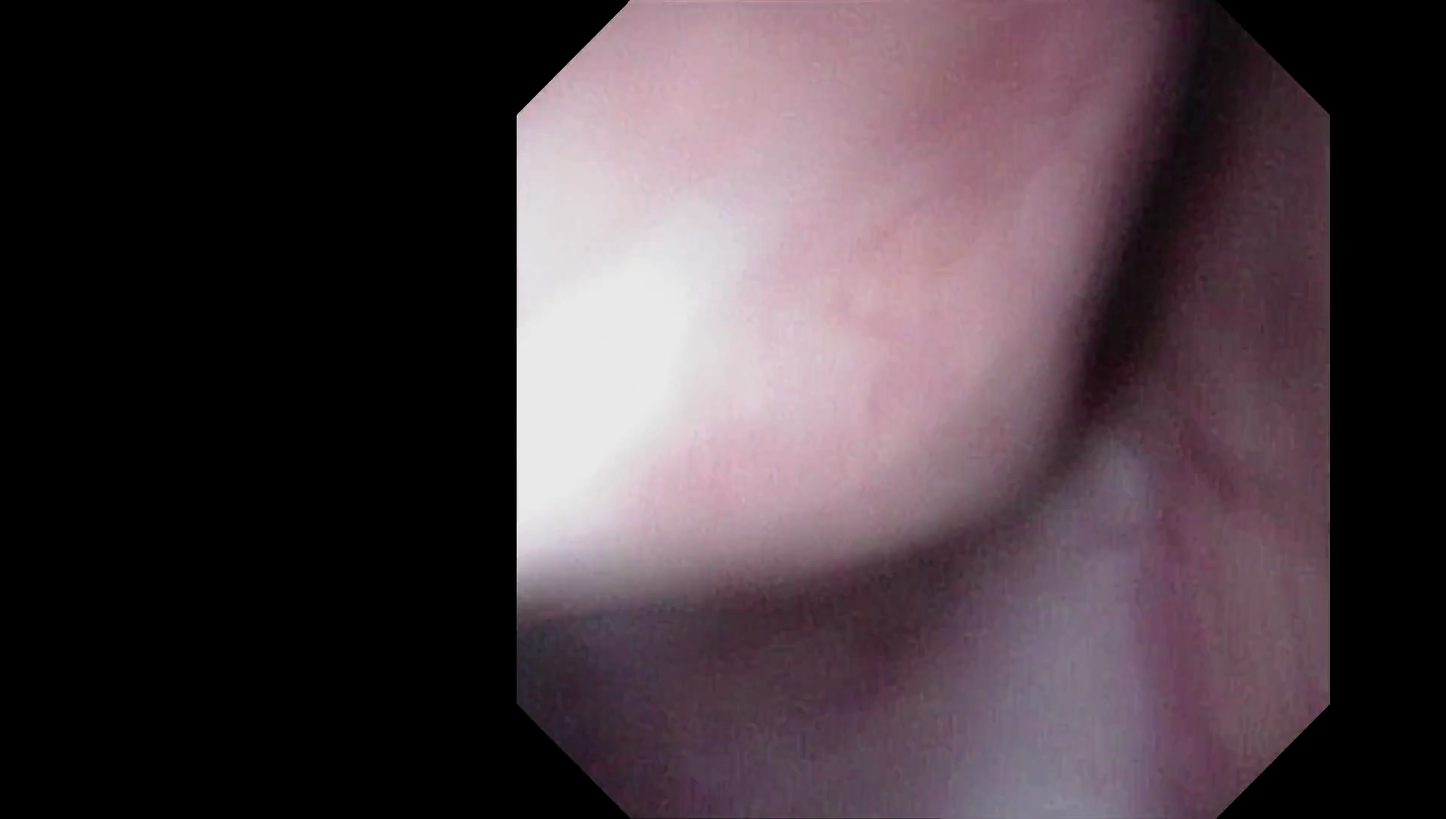close_wall: (524, 123, 985, 578)
next: (1032, 55, 1262, 422)
